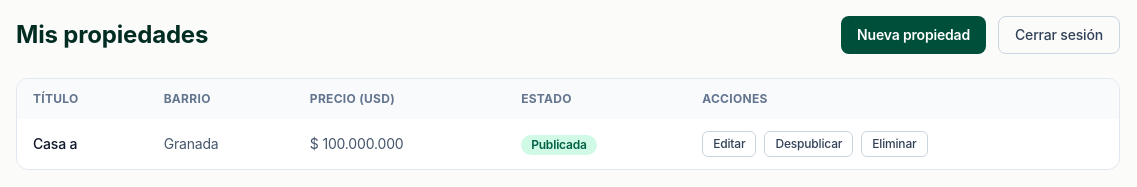
Test case: DashboardClient › unpublishes a listing via PATCH and flips the badge
expect the text "Casa a" is shown: met, box [33,135,77,152]
Click the button "Despublicar": (809, 144) [764,131,853,157]
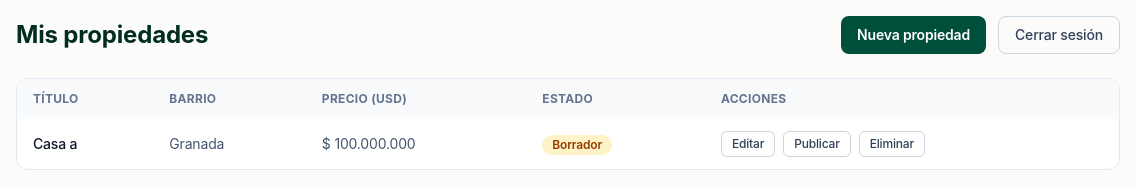
expect the text "Borrador" is shown: met, box [542,134,612,154]
